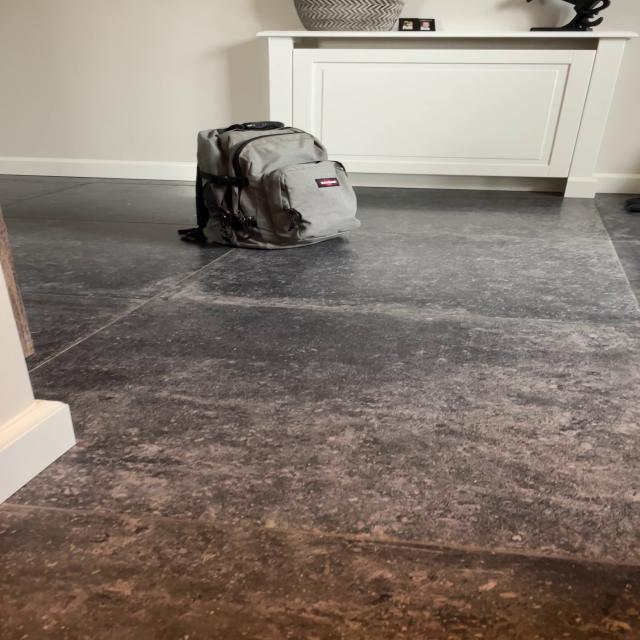backpack: (180, 115, 368, 255)
